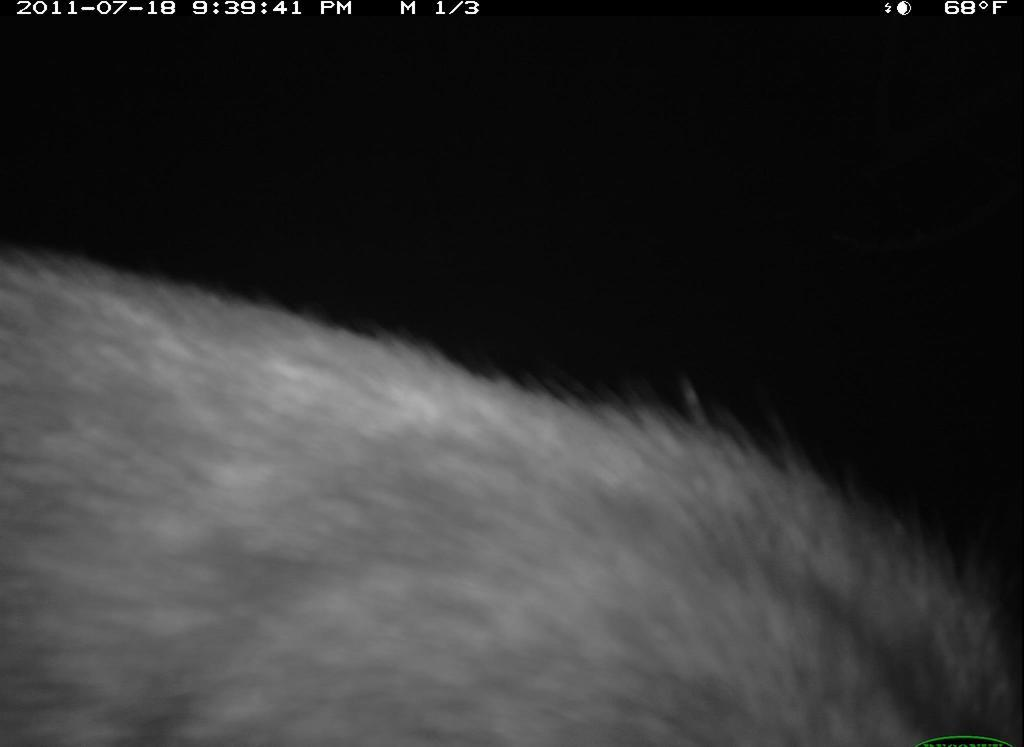raccoon: (6, 253, 1016, 747)
